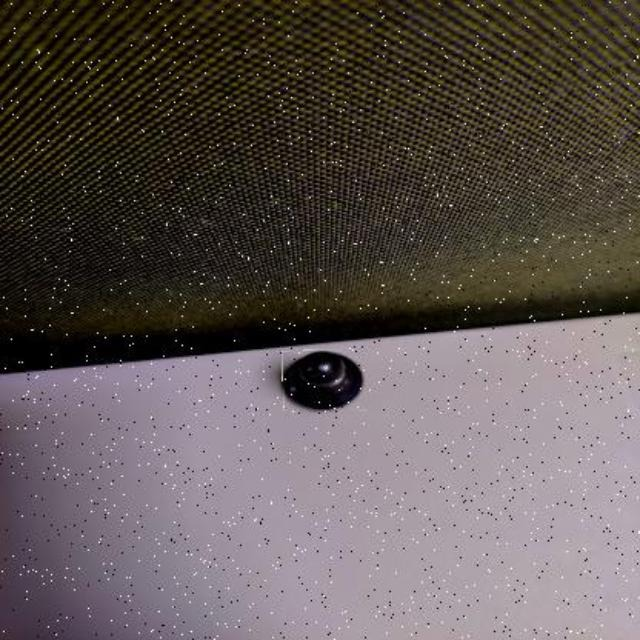black-pawn: (283, 351, 367, 412)
